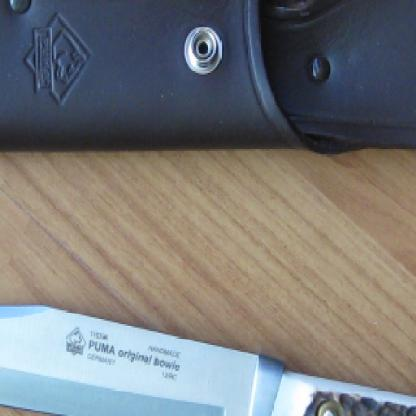knife: (0, 268, 288, 415)
